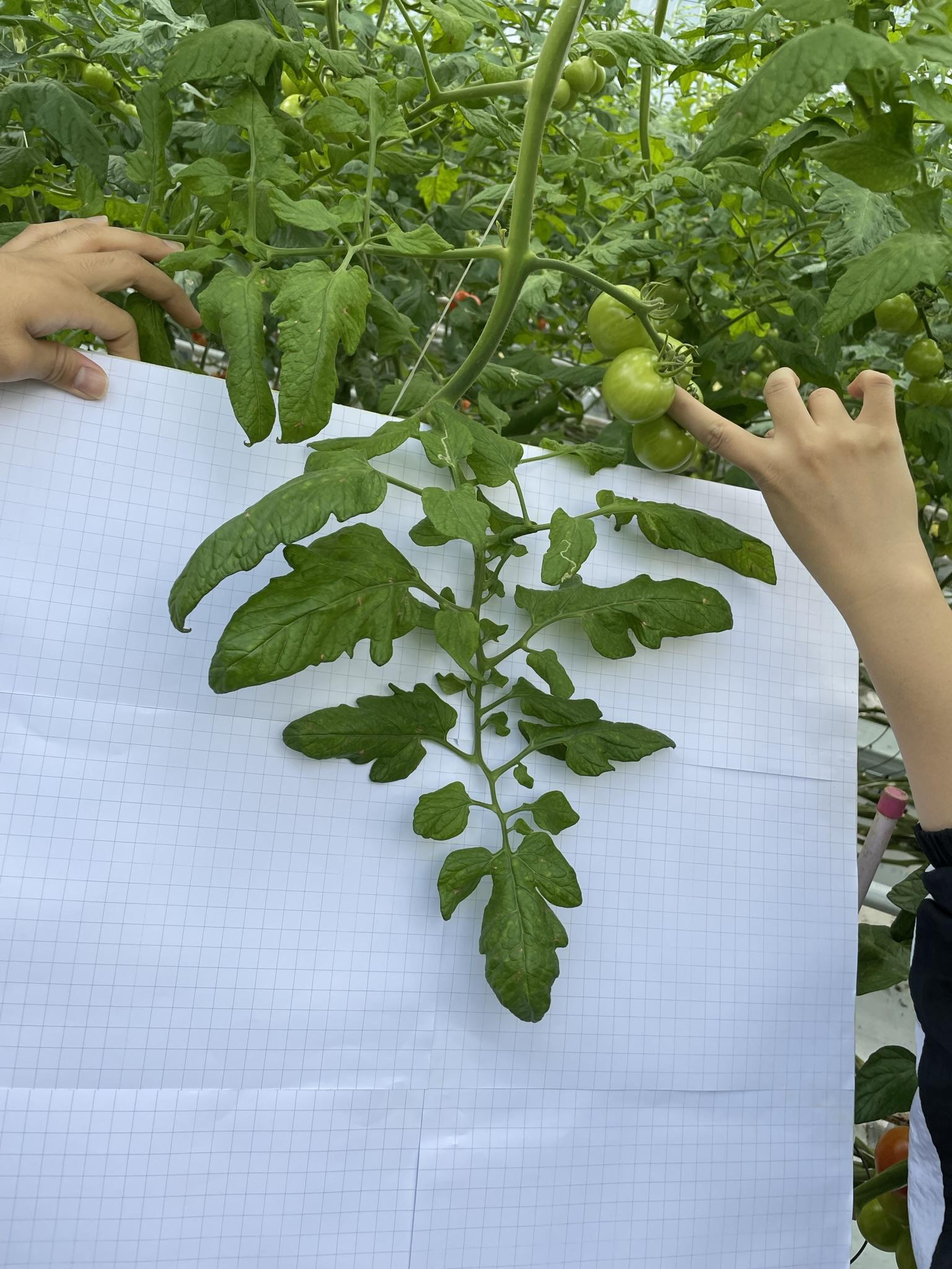Healthy: (160, 17, 281, 100), (268, 194, 340, 232), (169, 157, 233, 198), (386, 221, 455, 255)
Iron Deficiency: (167, 447, 388, 633), (208, 522, 421, 695), (693, 22, 905, 173), (435, 831, 584, 1023), (514, 571, 734, 661), (268, 258, 373, 445), (282, 682, 459, 784), (596, 488, 776, 586), (813, 229, 952, 340), (195, 267, 276, 448), (515, 717, 677, 778), (432, 399, 524, 488), (802, 127, 918, 192), (419, 482, 491, 559), (513, 676, 604, 725), (435, 606, 486, 683), (412, 780, 470, 841), (526, 647, 576, 700), (530, 789, 582, 837)
Leaf_Miner: (540, 506, 598, 587), (417, 410, 474, 469), (479, 363, 545, 404)
